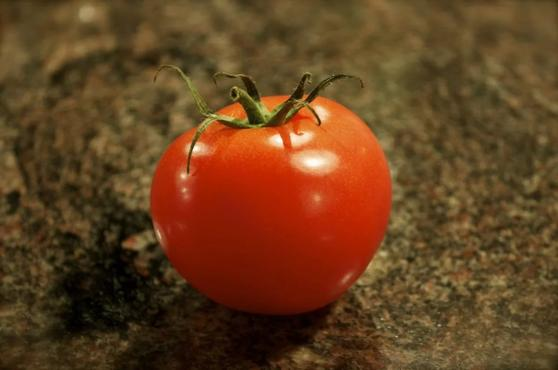tomato: (153, 88, 393, 309)
